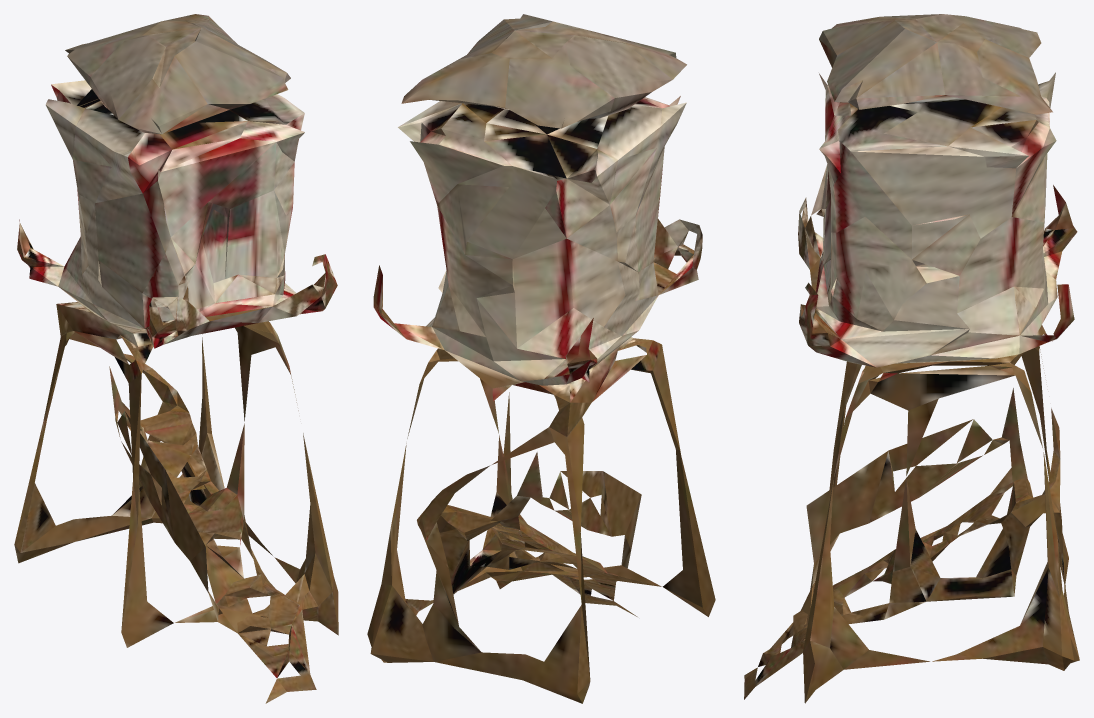
The model's file is lifeguard_tower_low.glb.
The picture shows the model from 3 angles, left to right: view 1: azimuth 30°, elevation 25°; view 2: azimuth 150°, elevation 25°; view 3: azimuth 270°, elevation 25°; orthographic projection. The views are drawn at different scales.
Parts seen in each view (by area): view 1: output_unwrapped; view 2: output_unwrapped; view 3: output_unwrapped.
Part boxes in pixels (left/top/right/bottom): output_unwrapped: left=14, top=14, right=338, bottom=703; output_unwrapped: left=367, top=14, right=715, bottom=703; output_unwrapped: left=744, top=14, right=1079, bottom=703.
Size of the model in its own units: 1.76 by 4.8 by 2.25.
Materials: 1 (1 with a texture image).
